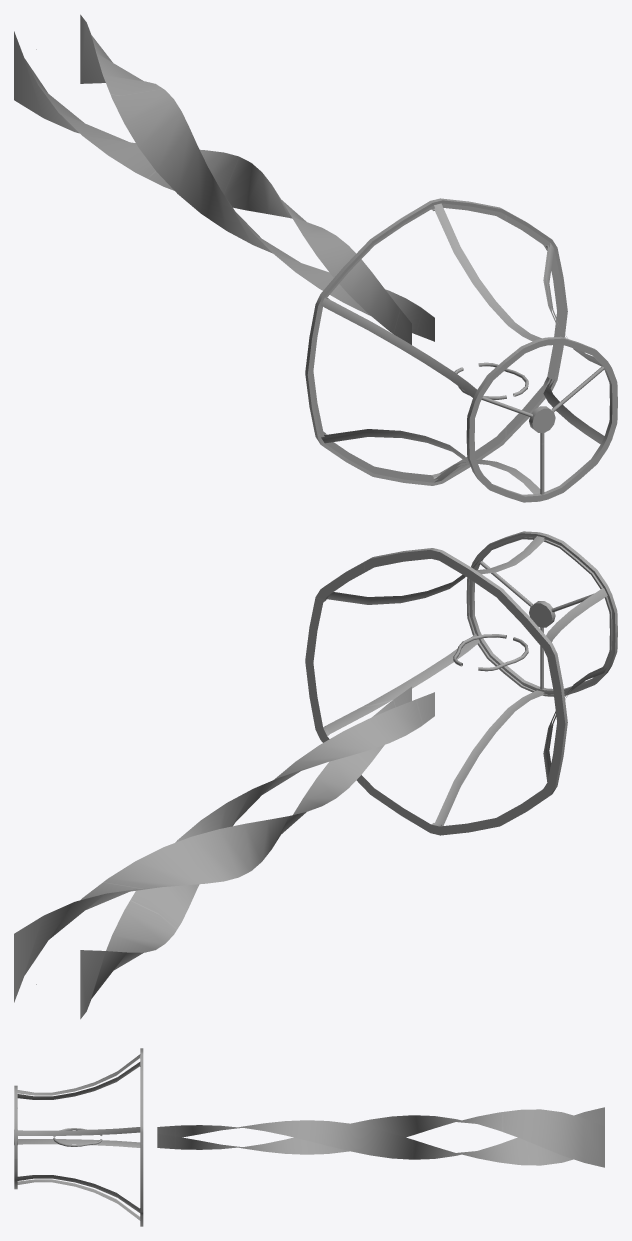
The model's file is MeshFloorLamp_10_0_GeomSubset_1.obj.
3 views of the same model, one above another, from view 1: azimuth 30°, elevation 25°; view 2: azimuth 150°, elevation 25°; view 3: azimuth 270°, elevation 25° (orthographic). The views are drawn at different scales.
Visible parts, largest first — view 1: MeshFloorLamp_10_0_GeomSubset_1; view 2: MeshFloorLamp_10_0_GeomSubset_1; view 3: MeshFloorLamp_10_0_GeomSubset_1.
Boxes of the visible parts, x1,y1,x2,y2 form: MeshFloorLamp_10_0_GeomSubset_1: [14, 14, 617, 502]; MeshFloorLamp_10_0_GeomSubset_1: [14, 531, 617, 1019]; MeshFloorLamp_10_0_GeomSubset_1: [14, 1048, 604, 1226].
Size of the model in its own units: 0.5542 by 0.5767 by 1.87.
